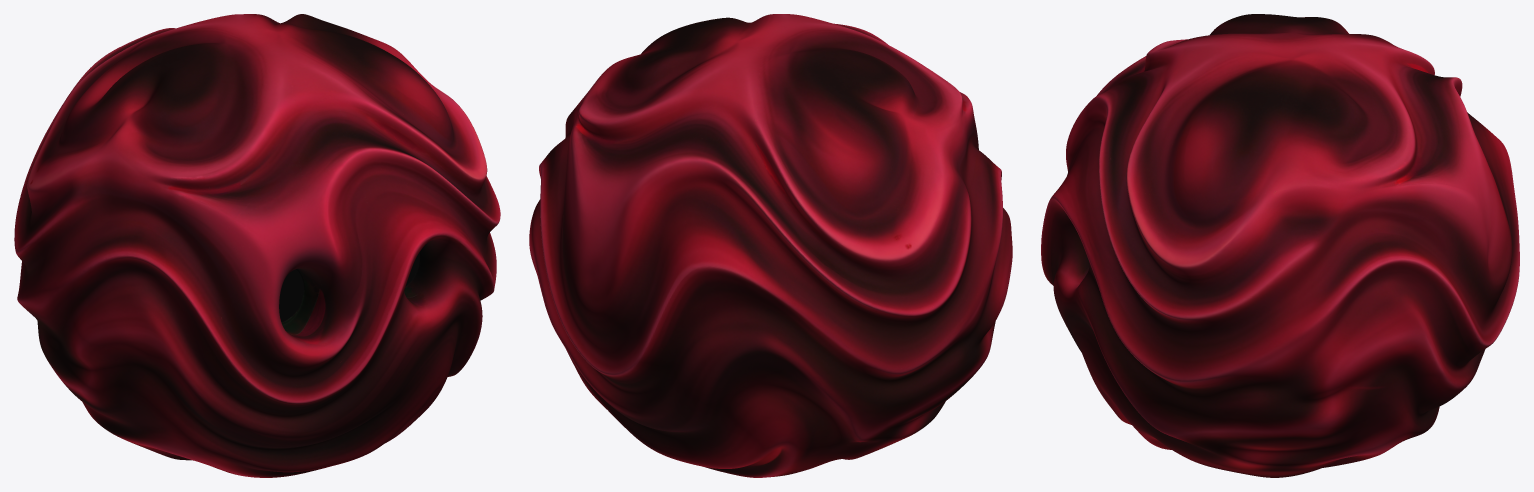
File: sinusoid-chase.glb
3 renders of one model, left to right at view 1: azimuth 30°, elevation 25°; view 2: azimuth 150°, elevation 25°; view 3: azimuth 270°, elevation 25°, orthographic.
Bounding box in the file's own units: 1.9 × 1.75 × 1.87.
1 material, 1 textured.
